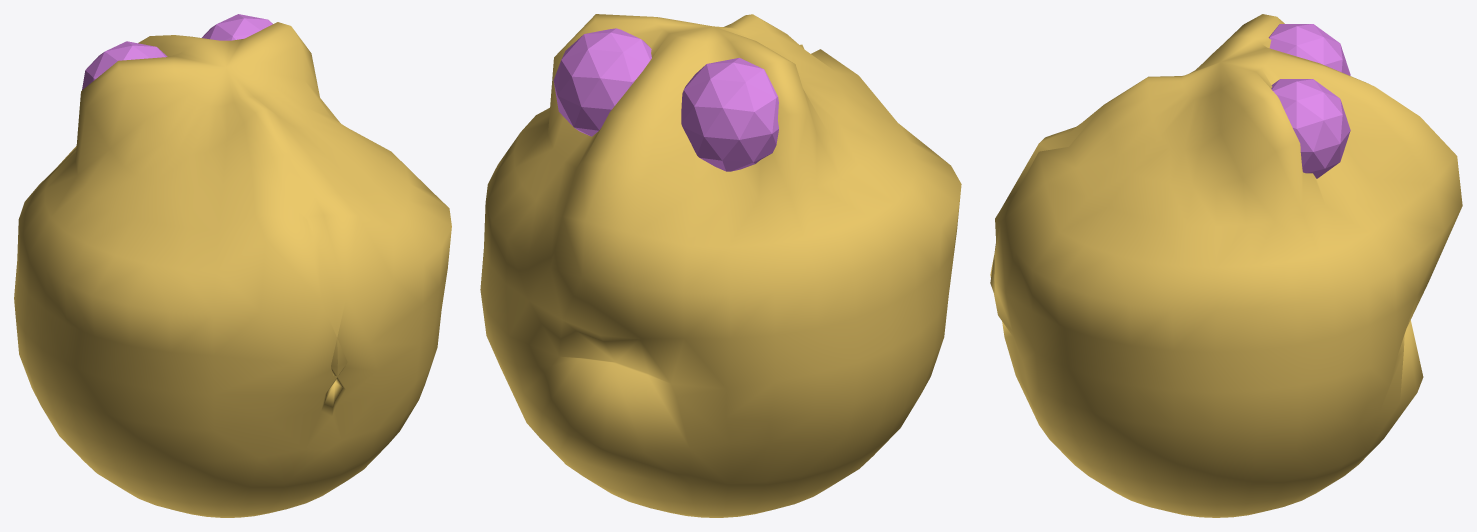
The model's file is Bouncing_Enemy_Gremlin.glb.
3 renders of one model, left to right at view 1: azimuth 30°, elevation 25°; view 2: azimuth 150°, elevation 25°; view 3: azimuth 270°, elevation 25°, orthographic. The views are drawn at different scales.
Parts seen in each view (by area): view 1: Sphere, Icosphere.001, Icosphere; view 2: Sphere, Icosphere.001, Icosphere; view 3: Sphere, Icosphere, Icosphere.001.
Boxes of the visible parts, x1,y1,x2,y2 form: Sphere: (14,22,451,517); Icosphere.001: (82,41,167,89); Icosphere: (202,14,272,40); Sphere: (480,14,961,517); Icosphere.001: (681,58,778,171); Icosphere: (553,28,651,136); Sphere: (990,14,1462,517); Icosphere: (1271,79,1350,178); Icosphere.001: (1268,24,1350,75).
Bounding box in the file's own units: 2 × 2.25 × 2.17.
